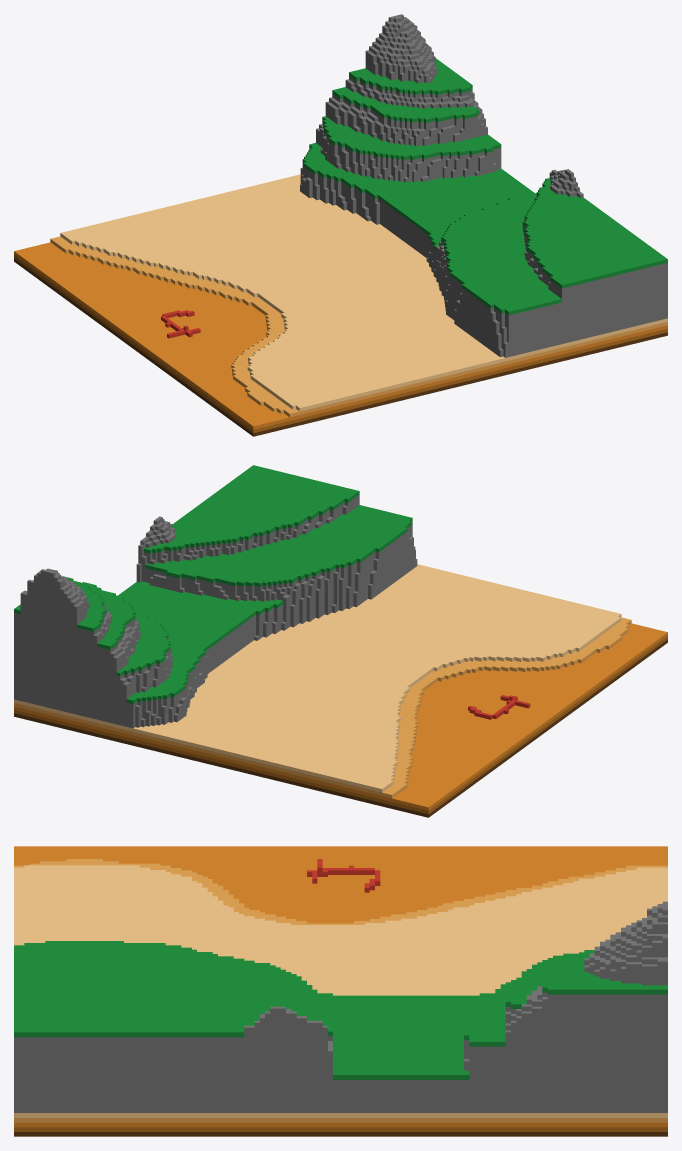
The model's file is Terrain 4.obj.
The picture shows the model from 3 angles, top to bottom: view 1: azimuth 30°, elevation 25°; view 2: azimuth 150°, elevation 25°; view 3: azimuth 270°, elevation 25°; orthographic projection. The views are drawn at different scales.
Visible parts, largest first — view 1: Terrain 4; view 2: Terrain 4; view 3: Terrain 4.
Boxes of the visible parts, bbox=[...] form: Terrain 4: bbox=[14, 14, 667, 436]; Terrain 4: bbox=[14, 465, 667, 817]; Terrain 4: bbox=[14, 846, 667, 1136].
Size of the model in its own units: 125 by 44 by 125.
1 material, 1 textured.
